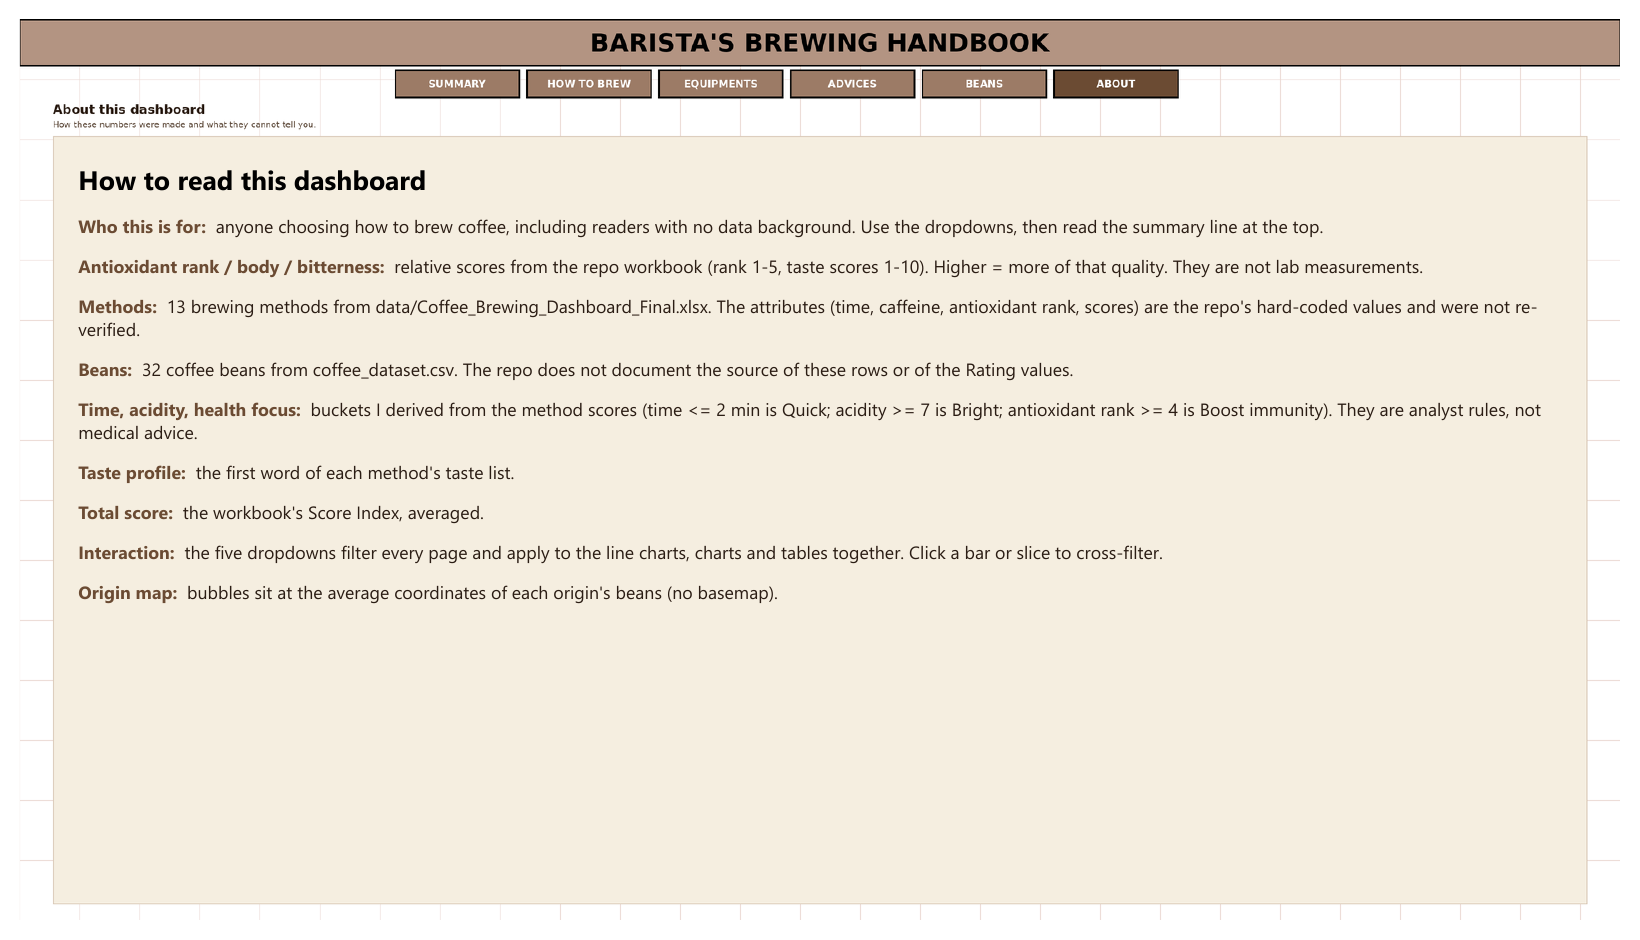

The dashboard page shown, as its layout file describes it:
{"tool":"powerbi","page":{"name":"About","canvas":[1920,1080],"ordinal":5},"visuals":[{"type":"textbox","box":[70,170,1780,850],"z":1850},{"type":"actionButton","box":[450,60,150,34],"z":9085},{"type":"actionButton","box":[608,60,150,34],"z":9086},{"type":"actionButton","box":[766,60,150,34],"z":9087},{"type":"actionButton","box":[924,60,150,34],"z":9088},{"type":"actionButton","box":[1082,60,150,34],"z":9089},{"type":"actionButton","box":[1240,60,150,34],"z":9090}]}

Visuals, with their boxes on the page's 1920x1080 design canvas (x1, y1, x2, y2). These are canvas units, not pixel positions in the 1640x940 screenshot, which may show the page scaled, cropped or inside an application window:
textbox: 70 170 1850 1020
actionButton: 450 60 600 94
actionButton: 608 60 758 94
actionButton: 766 60 916 94
actionButton: 924 60 1074 94
actionButton: 1082 60 1232 94
actionButton: 1240 60 1390 94
